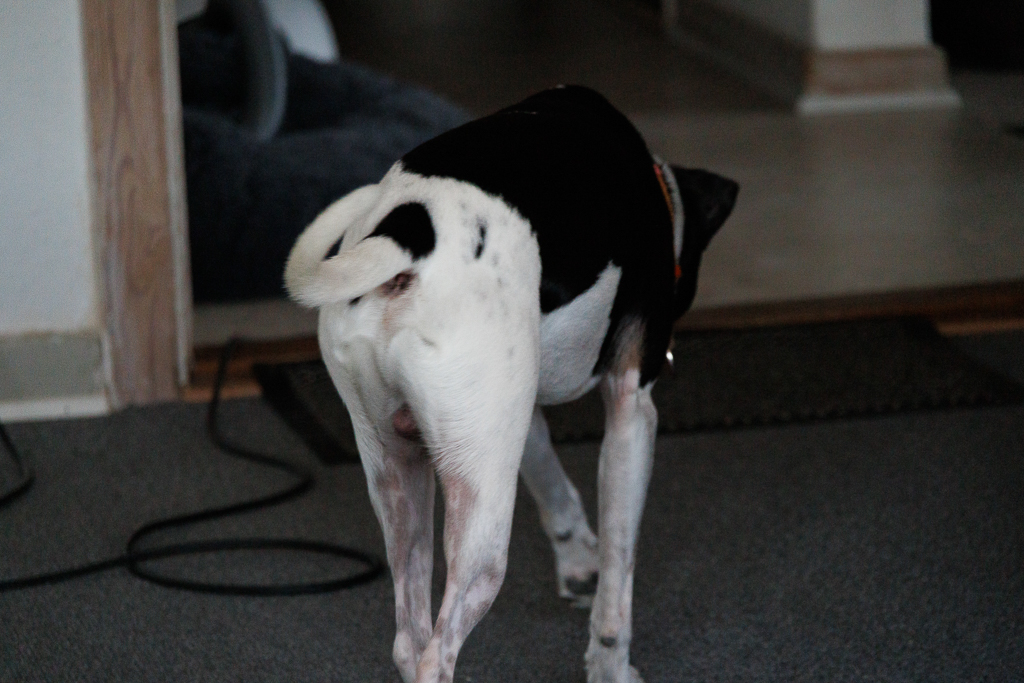Dog: (274, 71, 747, 683)
